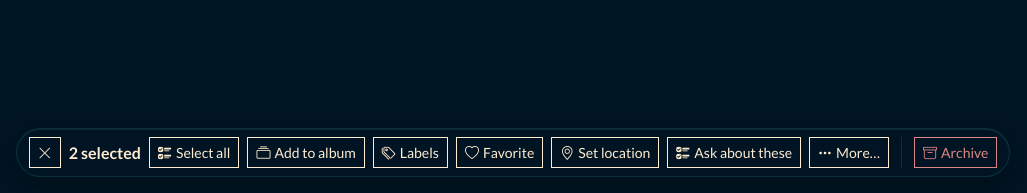
Scenario: BatchActionBar › keeps the everyday actions on the row and folds the occasional ones into "More…"
The image size is (1027, 193).
Expected: the button "Download ZIP" is not shown
Expected: the button "Stack selected" is not shown
Click the button "More…": click(849, 152) [809,137,889,168]
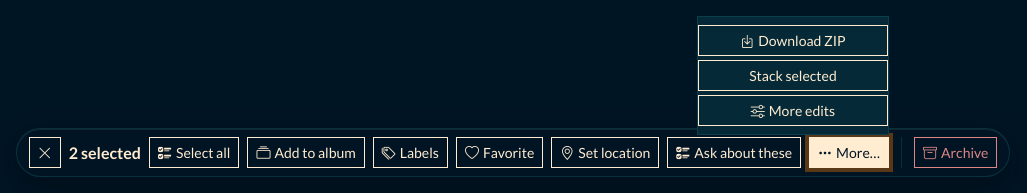
Now the button "Download ZIP" is shown, box [698,25,888,56]
Now the button "Stack selected" is shown, box [698,60,888,91]
Now the button "More edits" is shown, box [698,95,888,126]
